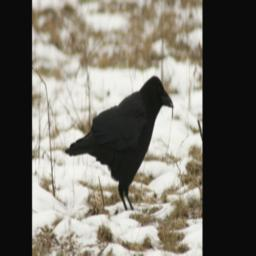Crow: (66, 68, 177, 214)
